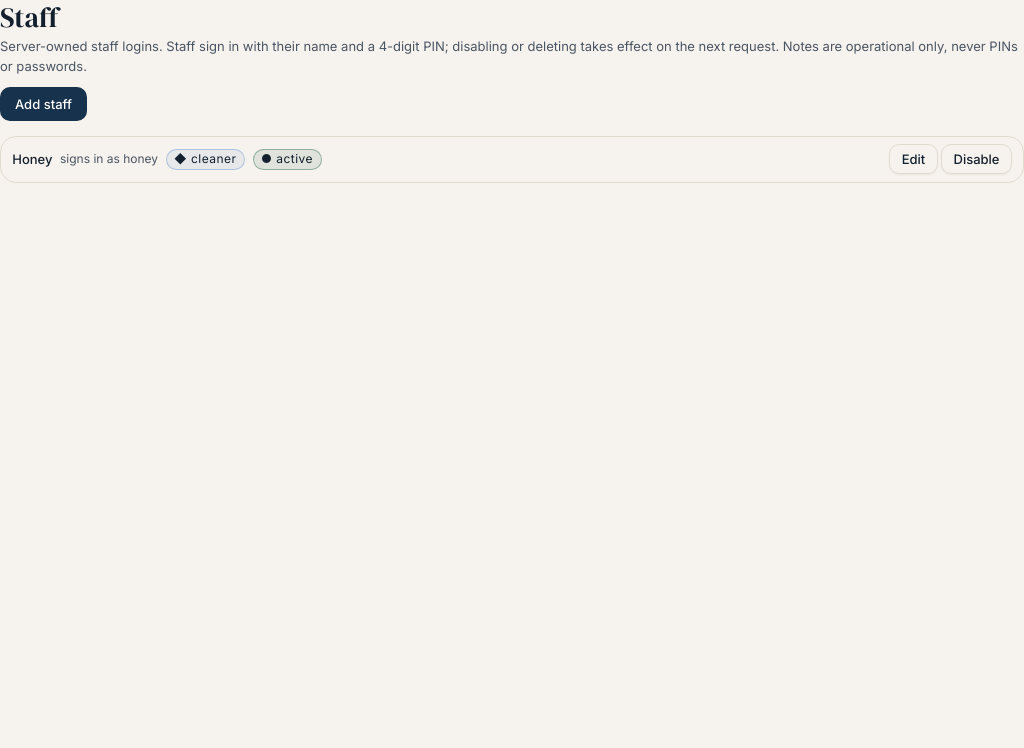
Test: Staff page payment details › shows no payment details and never reads them for anyone but owner and admin
Click the button "Edit".
click(913, 159)  # box [889,144,938,174]
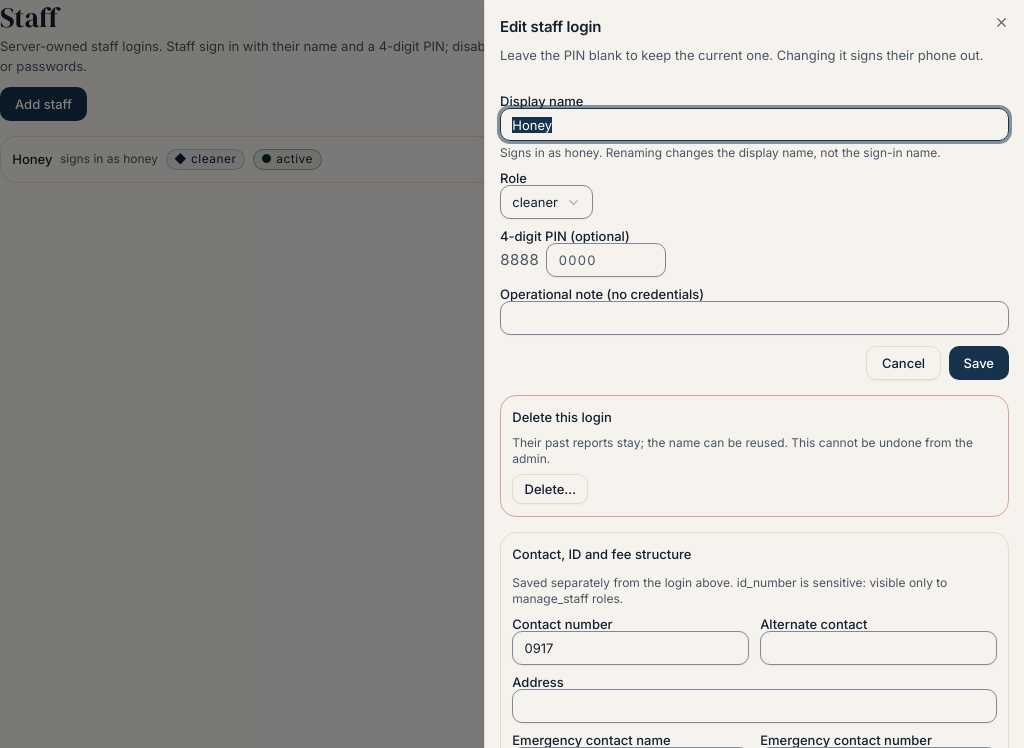
Expected: the text "Contact, ID and fee structure" is shown, [512,546,691,562]
